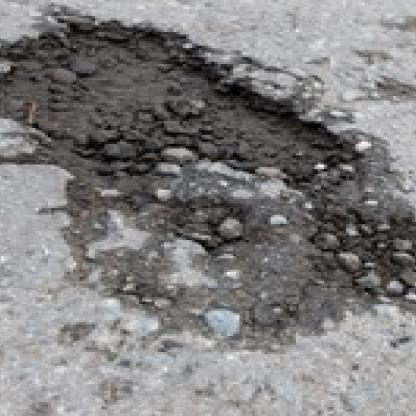pothole: (0, 17, 416, 294)
